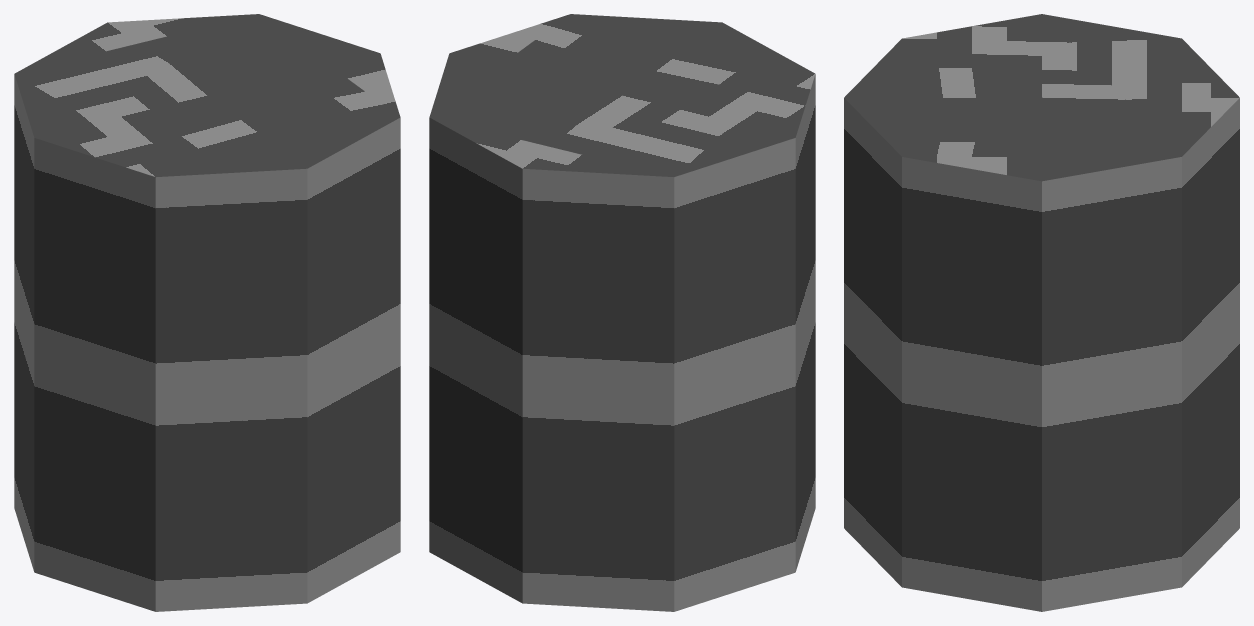
File: Barrel_Small.fbx
3 views of the same model, side by side, from view 1: azimuth 30°, elevation 25°; view 2: azimuth 150°, elevation 25°; view 3: azimuth 270°, elevation 25° (orthographic).
Visible parts, largest first — view 1: Barrel_Small; view 2: Barrel_Small; view 3: Barrel_Small.
Boxes of the visible parts, bbox=[...] form: Barrel_Small: bbox=[14, 14, 400, 611]; Barrel_Small: bbox=[429, 14, 815, 611]; Barrel_Small: bbox=[844, 14, 1239, 611].
Bounding box in the file's own units: 100 × 120 × 100.
